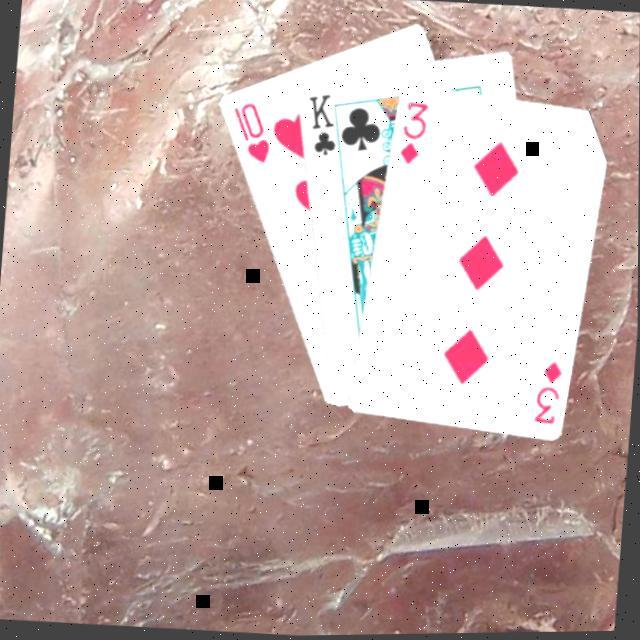10H: (225, 96, 274, 166)
3D: (394, 96, 431, 168), (529, 356, 564, 427)
KC: (300, 88, 348, 164)
